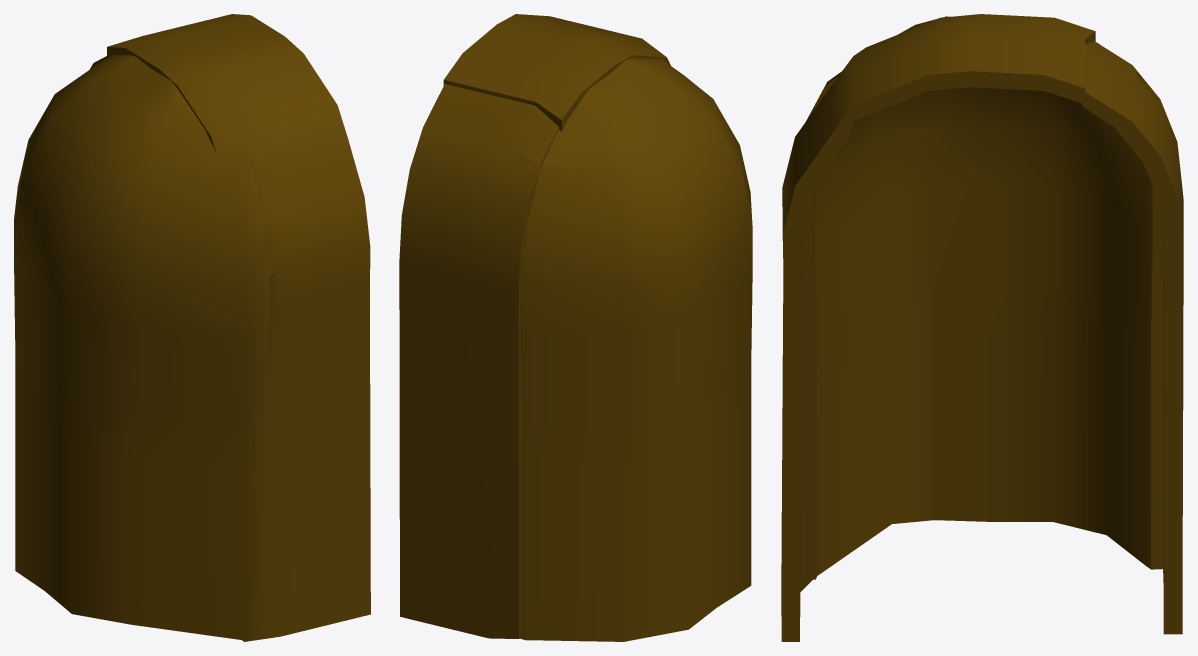
The model's file is LongHair.fbx.
The picture shows the model from 3 angles, left to right: view 1: azimuth 30°, elevation 25°; view 2: azimuth 150°, elevation 25°; view 3: azimuth 270°, elevation 25°; orthographic projection. The views are drawn at different scales.
Parts seen in each view (by area): view 1: LongHair; view 2: LongHair; view 3: LongHair.
Part boxes in pixels (left/top/right/bottom): LongHair: left=14, top=14, right=370, bottom=641; LongHair: left=399, top=14, right=752, bottom=641; LongHair: left=781, top=14, right=1183, bottom=641.
Bounding box in the file's own units: 6.5 × 13.79 × 8.77.
